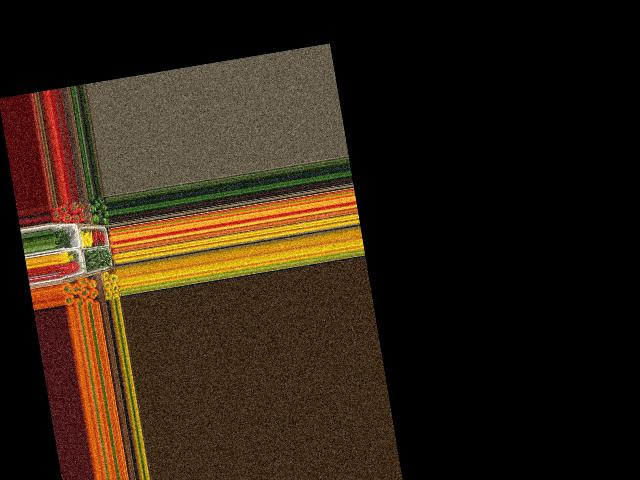bell_pepper: (87, 203, 100, 214)
